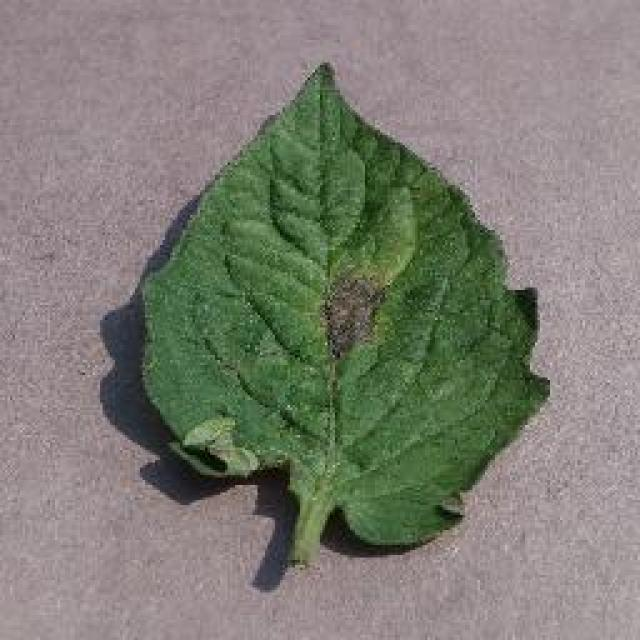Tomato late blight leaf: (133, 69, 545, 574)
